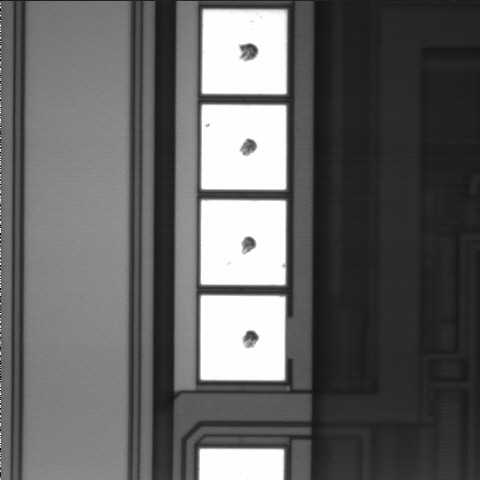pad: (201, 105, 286, 190), (201, 200, 286, 285), (200, 295, 285, 380), (202, 10, 287, 94)
